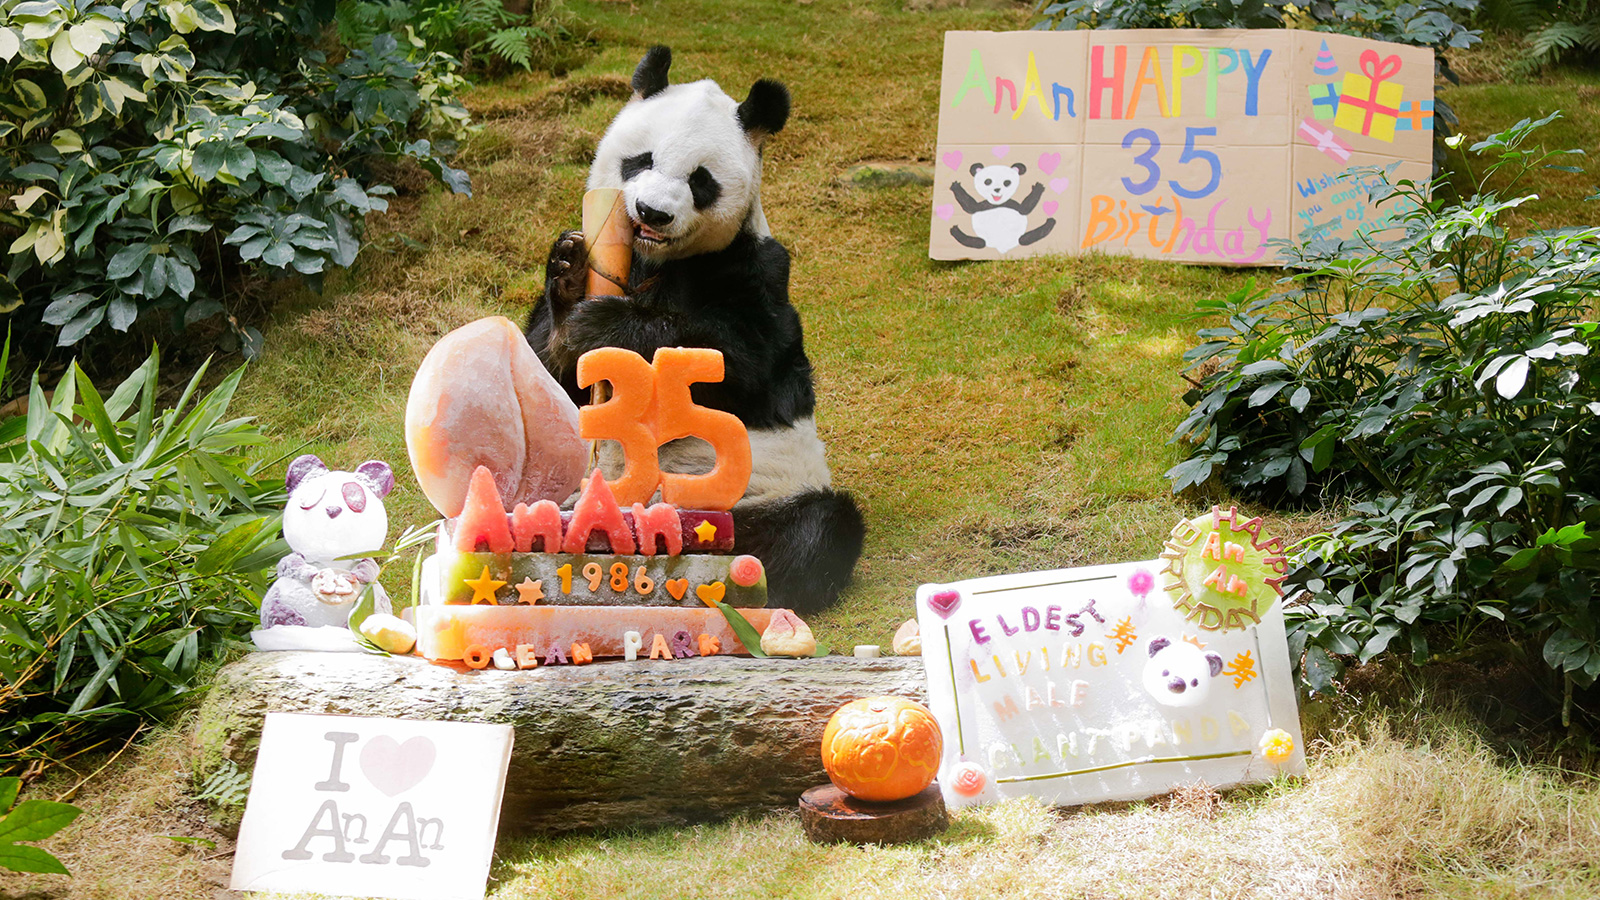panda: (451, 5, 843, 629)
